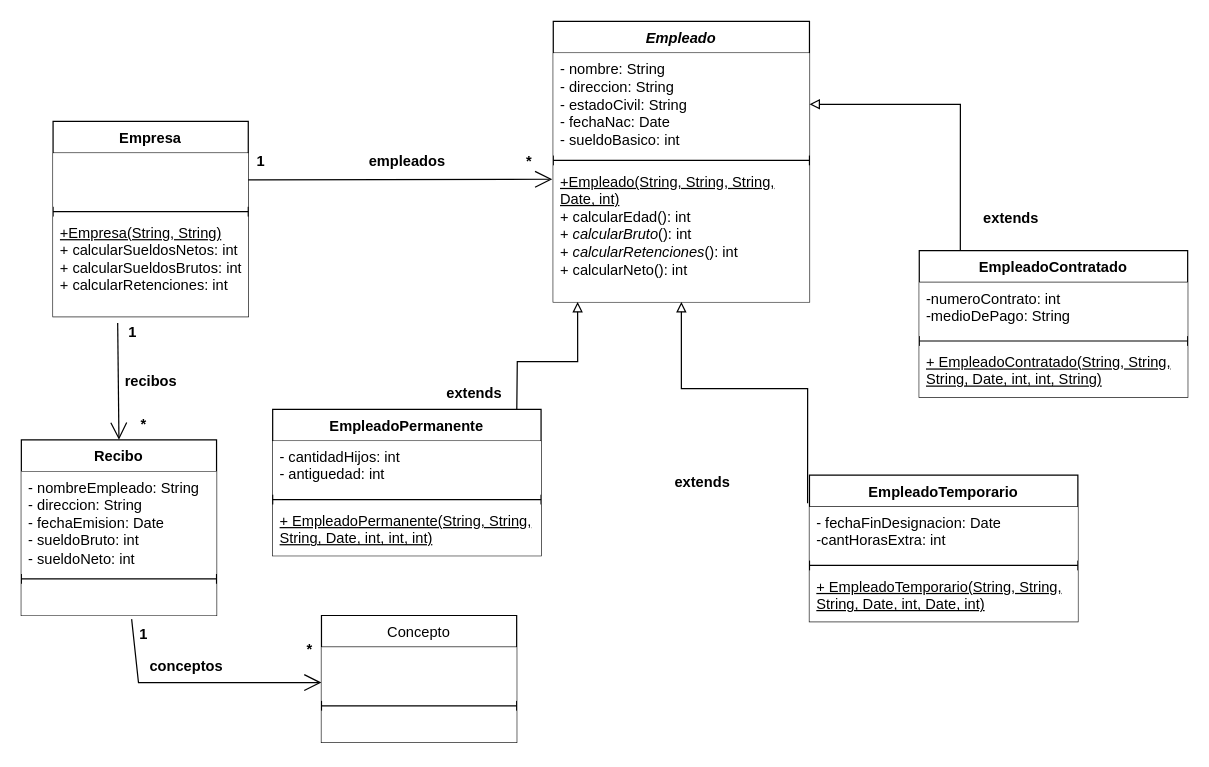
Some shapes in this 1209 by 767 pixel diagram are drawn without their labels. The centre of each missing label's shape, as x and y in pixels:
+ Concepto(String, int): the point at 418,726
+ Recibo(Empleado): the point at 118,599
- item: String - monto: int: the point at 418,673
- nombre: String - cuit : int: the point at 150,179
